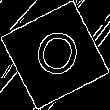O_S: (26, 24, 84, 86)
